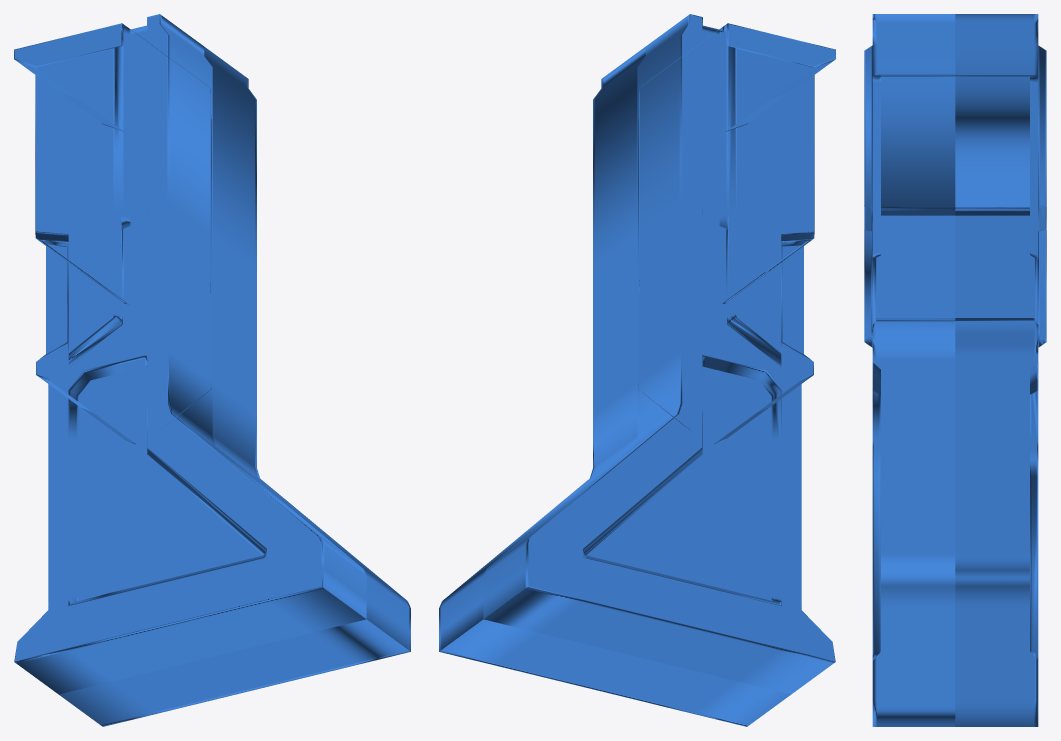
Rendered from uee_asteroid_hangar_t2_catwalk_pillar_a.glb.
3 renders of one model, left to right at view 1: azimuth 30°, elevation 25°; view 2: azimuth 150°, elevation 25°; view 3: azimuth 270°, elevation 25°, orthographic. The views are drawn at different scales.
Size of the model in its own units: 4 by 7.6 by 2.2.
